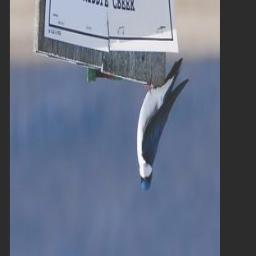Swallow: (135, 59, 188, 195)
